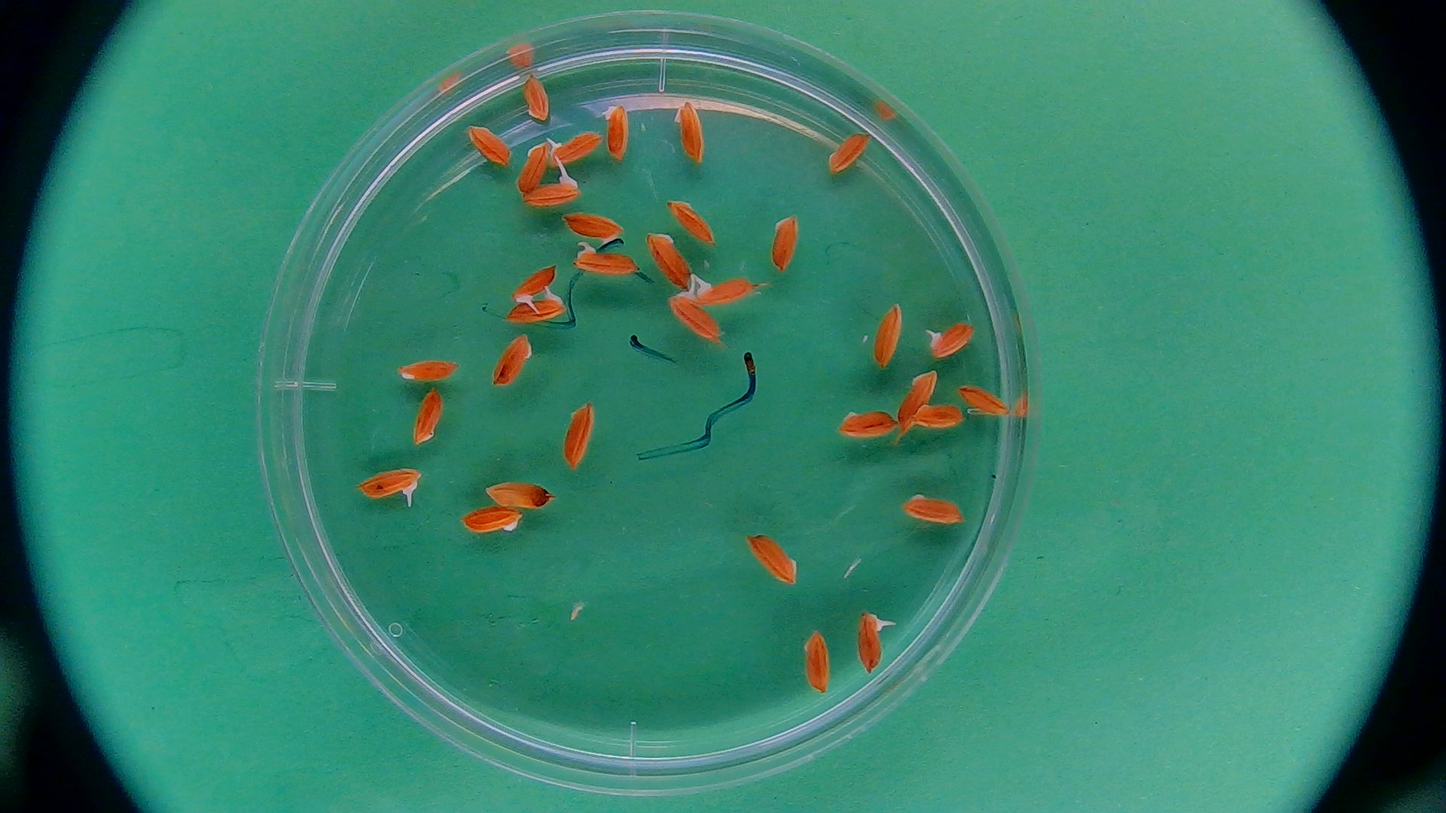no: (645, 230, 703, 293), (890, 370, 942, 440), (740, 533, 801, 584), (484, 333, 538, 390), (898, 492, 973, 532), (671, 99, 714, 166), (664, 196, 720, 247), (401, 386, 449, 445), (563, 395, 596, 476), (801, 620, 837, 694), (869, 303, 909, 369), (562, 210, 630, 248), (819, 134, 877, 178), (462, 123, 517, 166), (958, 379, 1010, 423), (477, 482, 558, 510), (389, 355, 461, 384), (600, 99, 631, 163), (843, 409, 898, 445), (545, 135, 602, 167), (463, 504, 529, 531), (771, 215, 801, 273), (911, 398, 965, 430), (522, 76, 557, 125), (520, 139, 551, 194)
yes: (572, 236, 645, 281), (671, 292, 724, 343), (352, 467, 426, 501), (855, 609, 890, 674), (926, 321, 978, 363), (690, 273, 763, 302), (526, 172, 579, 210), (505, 290, 568, 321), (510, 265, 560, 304)
